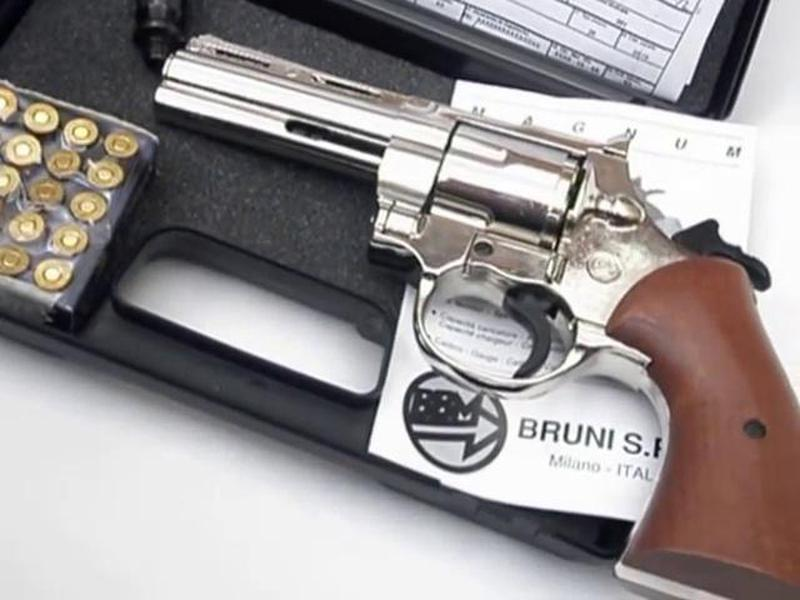Revolver: (143, 13, 762, 503)
